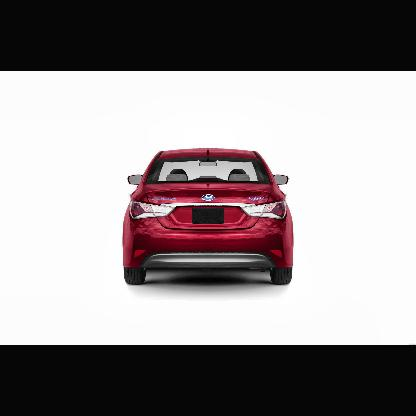Hyundai Sonata Hybrid Sedan 2012: (124, 149, 294, 288)
